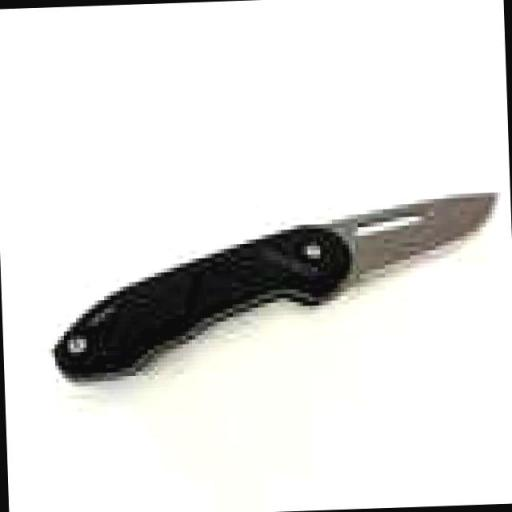knife: (46, 188, 508, 396)
